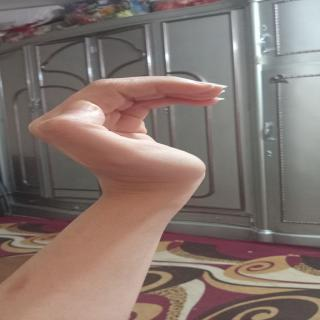HAA: (15, 64, 276, 200)
